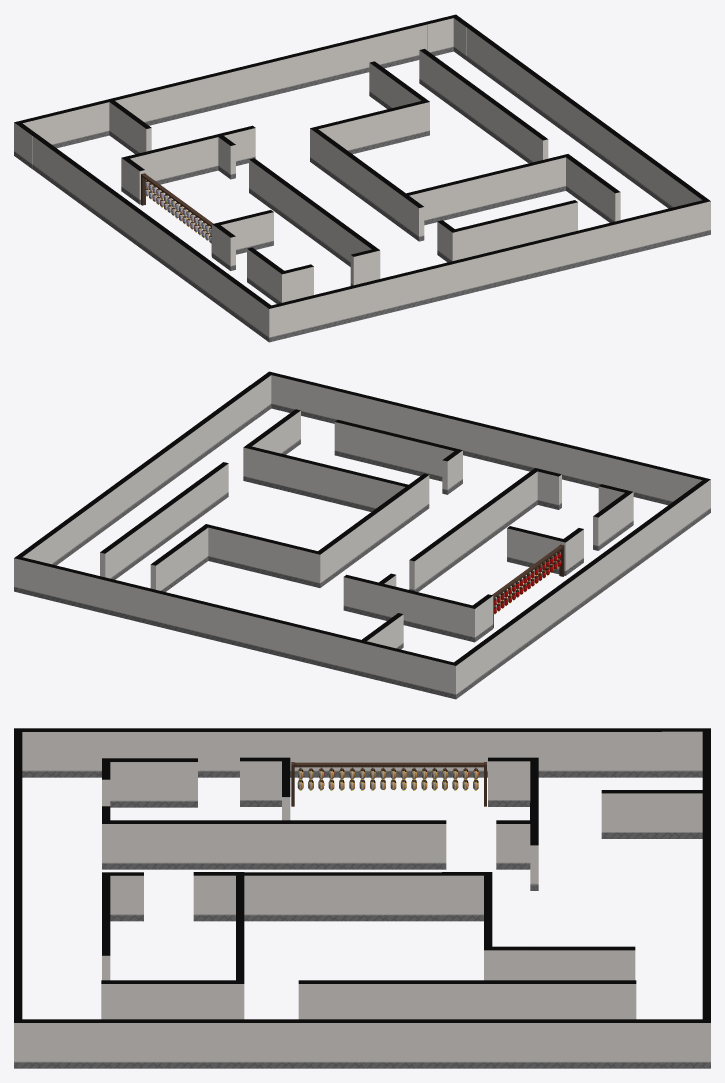
File: Lvl 2.fbx
3 views of the same model, one above another, from view 1: azimuth 30°, elevation 25°; view 2: azimuth 150°, elevation 25°; view 3: azimuth 270°, elevation 25° (orthographic). The views are drawn at different scales.
Parts seen in each view (by area): view 1: Wall 1.048, Wall 1.049, Wall 1.037, Wall 1.051, Wall 1.040, Wall 1.035, Wall 1.038, Wall 1.032, Wall 1.041, Corner 1.026, Corner 1.033, Corner 1.030 (+24 smaller); view 2: Wall 1.049, Wall 1.048, Wall 1.037, Wall 1.051, Wall 1.040, Wall 1.038, Wall 1.035, Wall 1.041, Wall 1.032, Corner 1.026, Corner 1.019, Corner 1.029 (+23 smaller); view 3: Wall 1.051, Wall 1.037, Wall 1.040, Wall 1.041, Wall 1.032, Wall 1.052, Corner 1.026, Corner 1.034, Corner 1.027, Wall 1.042, Wall 1.043, Sphere.006 (+19 smaller).
Part boxes in pixels (x1,y1,x2,y2): Wall 1.048: (298,205,684,334); Wall 1.049: (41,22,426,148); Wall 1.037: (32,134,258,330); Wall 1.051: (466,25,692,208); Wall 1.040: (419,49,620,222); Wall 1.035: (427,165,523,223); Wall 1.038: (482,200,577,253); Wall 1.032: (328,140,405,227); Wall 1.041: (284,184,361,266); Corner 1.026: (247,247,313,303); Corner 1.033: (253,296,300,342); Corner 1.030: (189,133,235,179); Wall 1.049: (45,563,431,692); Wall 1.048: (292,378,678,505); Wall 1.037: (469,489,695,685); Wall 1.051: (29,385,255,565); Wall 1.040: (100,409,300,579); Wall 1.038: (334,419,430,475); Wall 1.035: (291,457,386,511); Wall 1.041: (445,481,522,568); Wall 1.032: (333,487,410,574); Corner 1.026: (593,484,633,550); Corner 1.019: (429,651,474,699); Corner 1.029: (448,594,493,642); Wall 1.051: (64,1019,669,1068); Wall 1.037: (56,728,661,777); Wall 1.040: (101,980,636,1019); Wall 1.041: (151,820,349,869); Wall 1.032: (244,872,441,921); Wall 1.052: (349,820,446,869); Corner 1.026: (102,758,197,807); Corner 1.034: (14,1005,64,1068); Corner 1.027: (102,806,152,869); Wall 1.042: (652,790,702,838); Wall 1.043: (601,790,651,838); Sphere.006: (297,767,478,790).
Size of the model in its own units: 82.94 by 6.01 by 82.87.
